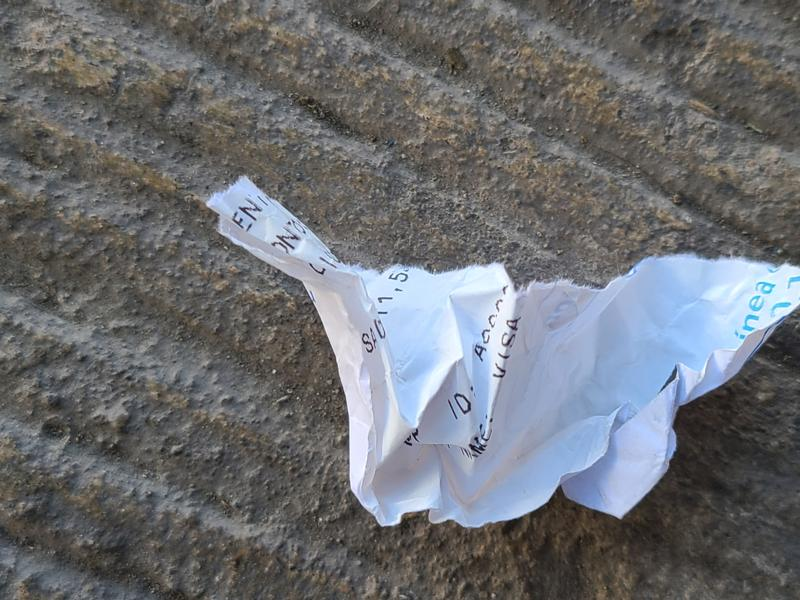papel: (203, 176, 800, 530)
